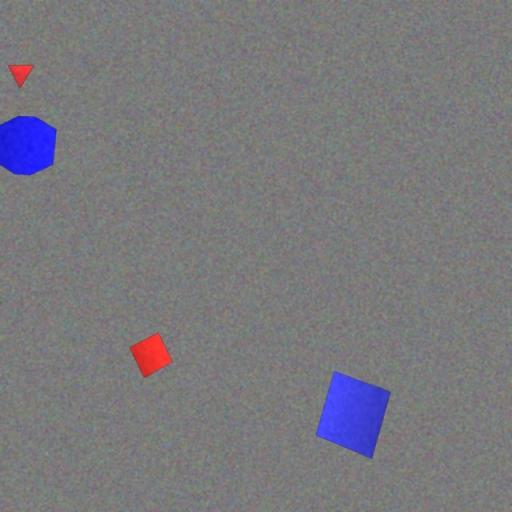BLUE_SQUARE: (314, 370, 392, 460)
RED_SQUARE: (128, 332, 174, 378)
